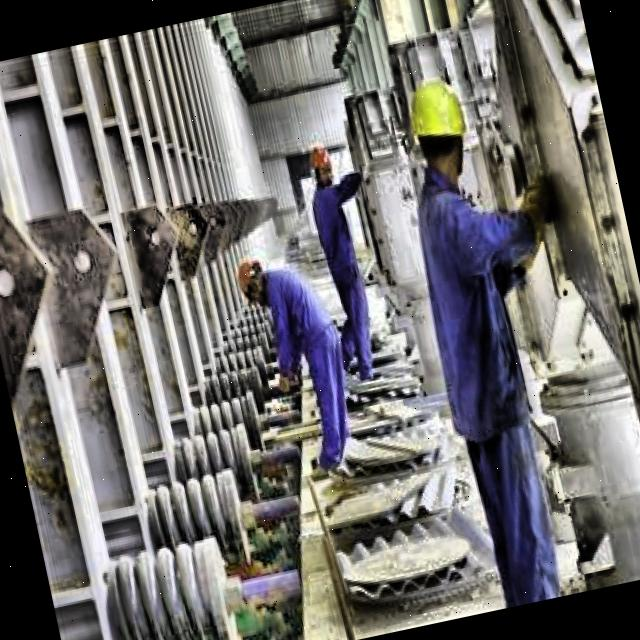helmet: (395, 64, 485, 193), (224, 252, 284, 328), (302, 134, 340, 196)
